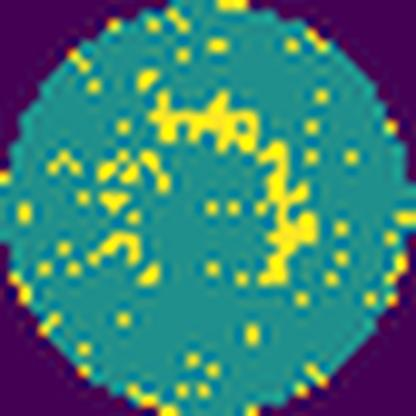Donut: (78, 84, 322, 298)
